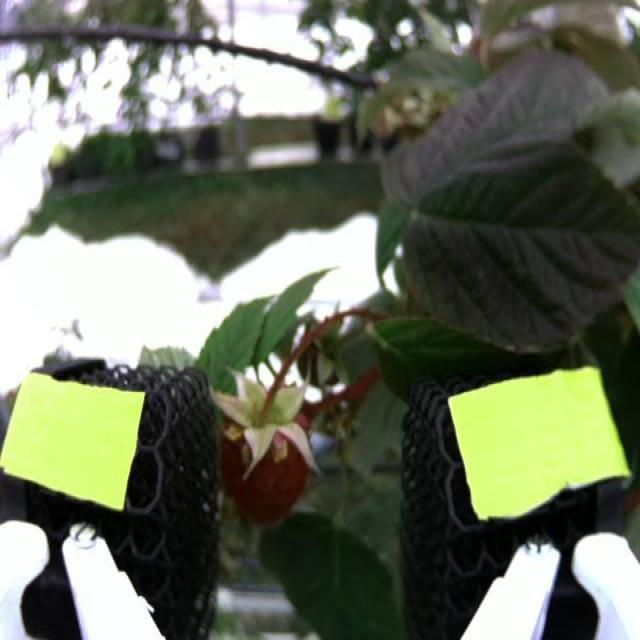Riped berries: (216, 387, 322, 523)
